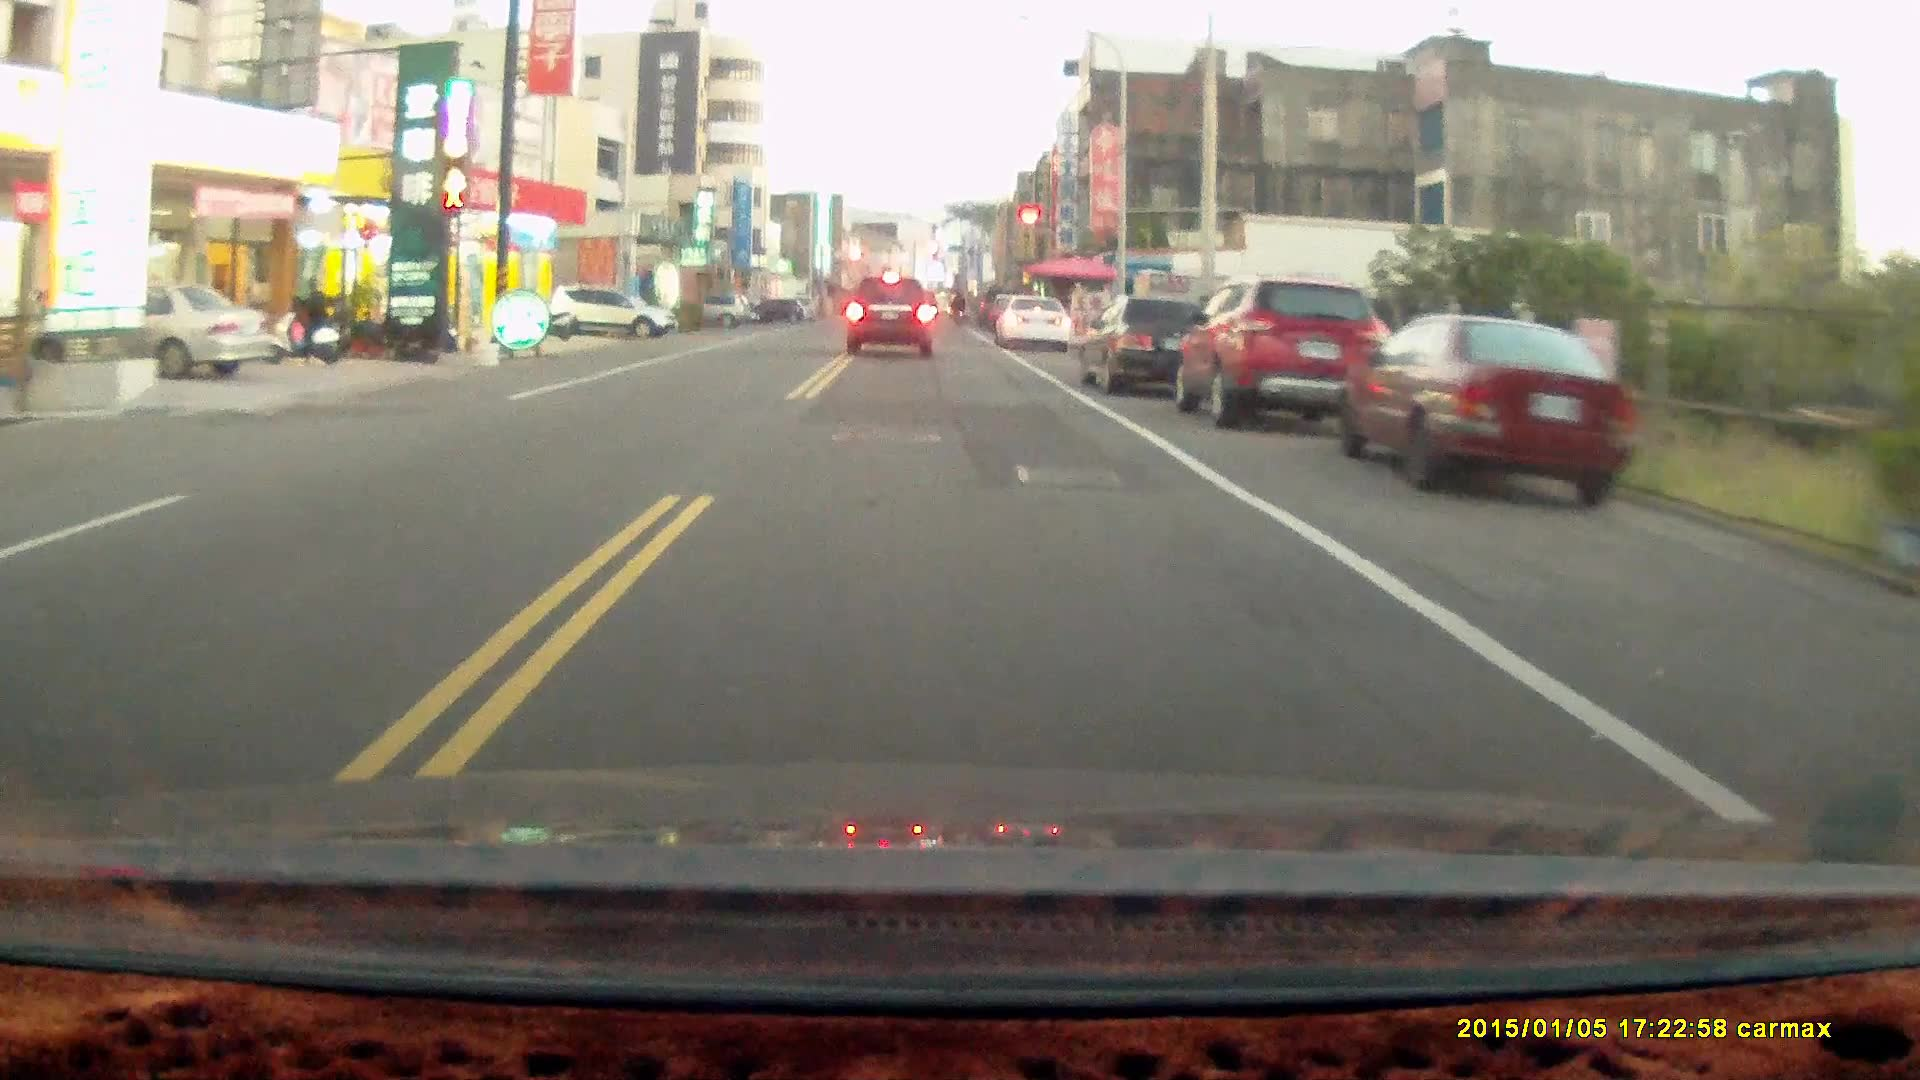vehicle: (1336, 313, 1642, 512), (1182, 276, 1404, 430), (51, 285, 272, 384), (1079, 294, 1224, 396), (549, 285, 679, 344), (847, 280, 938, 363), (997, 294, 1073, 353)
